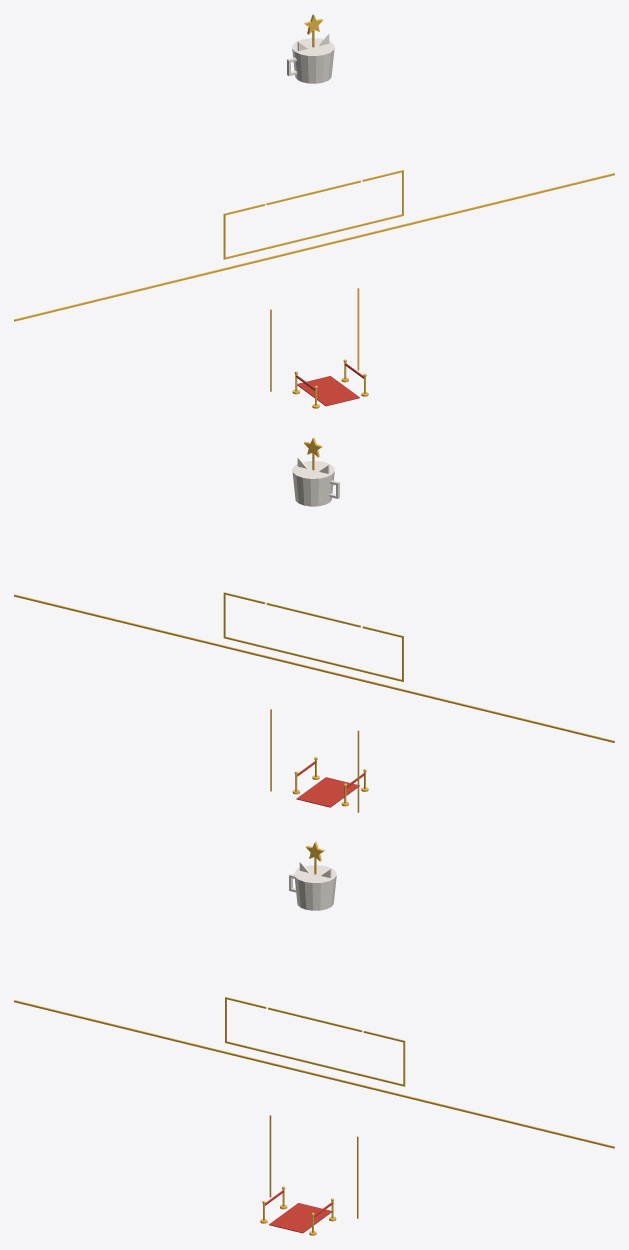
File: CatCafe_Plot_Tier5_56x43.glb
The picture shows the model from 3 angles, top to bottom: view 1: azimuth 30°, elevation 25°; view 2: azimuth 150°, elevation 25°; view 3: azimuth 330°, elevation 25°; orthographic projection.
Visible parts, largest first — view 1: CatCafe_Plot_Tier5_56x43; view 2: CatCafe_Plot_Tier5_56x43; view 3: CatCafe_Plot_Tier5_56x43.
Boxes of the visible parts, x1=… form: CatCafe_Plot_Tier5_56x43: x1=14, y1=14, x2=614, y2=408; CatCafe_Plot_Tier5_56x43: x1=14, y1=437, x2=614, y2=812; CatCafe_Plot_Tier5_56x43: x1=14, y1=841, x2=614, y2=1235.
Bounding box in the file's own units: 56.4 × 32.91 × 6.55.
Materials: 1 (1 with a texture image).
